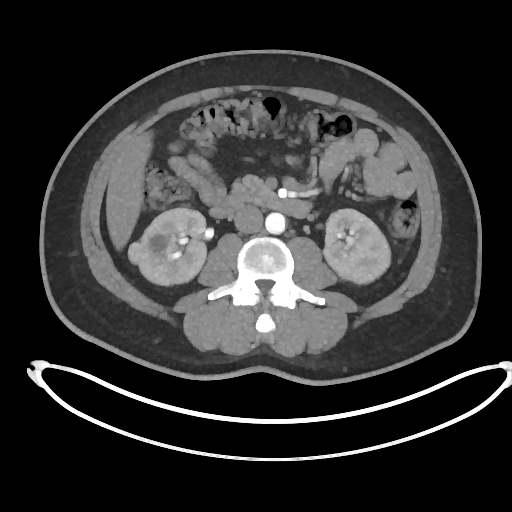Lesion: (126, 241, 146, 269)
